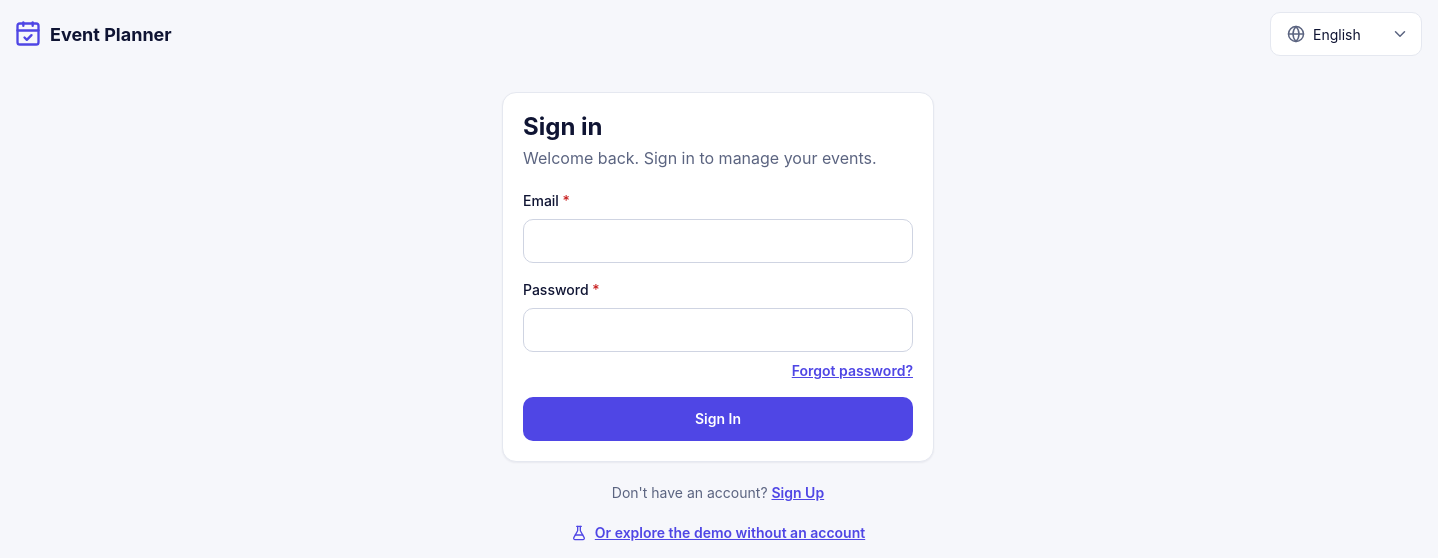
Test: forgot and reset password › asks for a link and confirms without saying whether the account exists
Click the link "Forgot password?" at (852, 370), box left=792, top=360, right=913, bottom=381
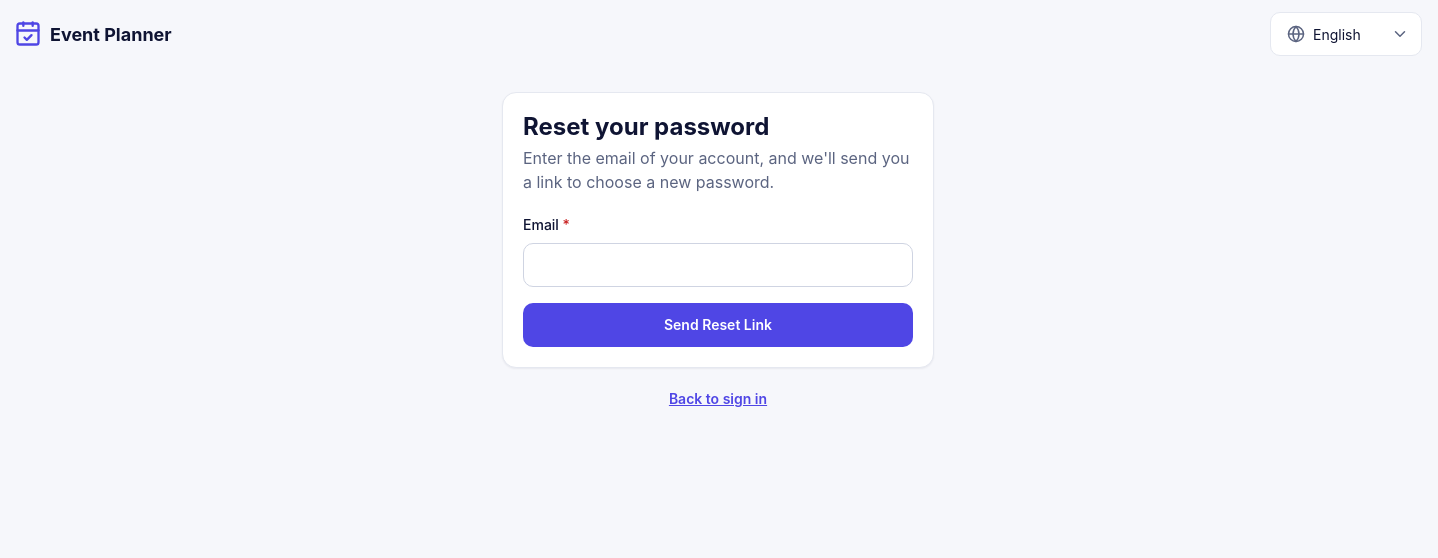
Expected: the heading "Reset your password" is shown, left=523, top=112, right=769, bottom=141
Type "not-an-email" into the field labelled "Email *" at (718, 265), box left=523, top=243, right=913, bottom=287
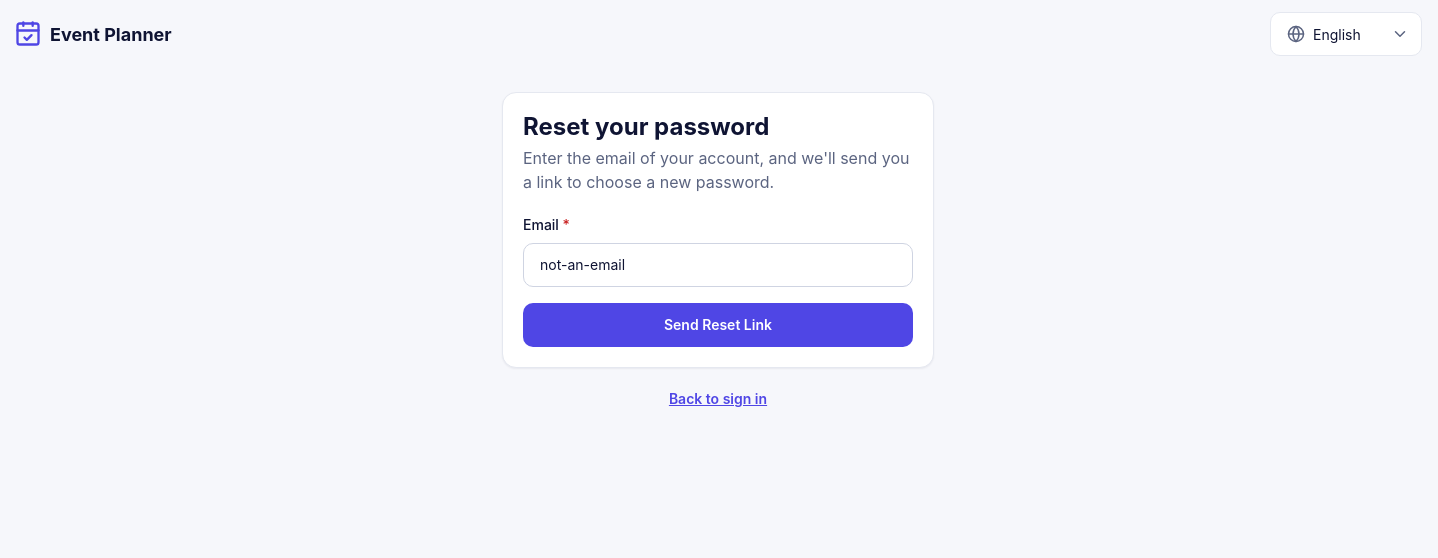
Click the button "Send Reset Link" at (718, 325), box left=523, top=303, right=913, bottom=347
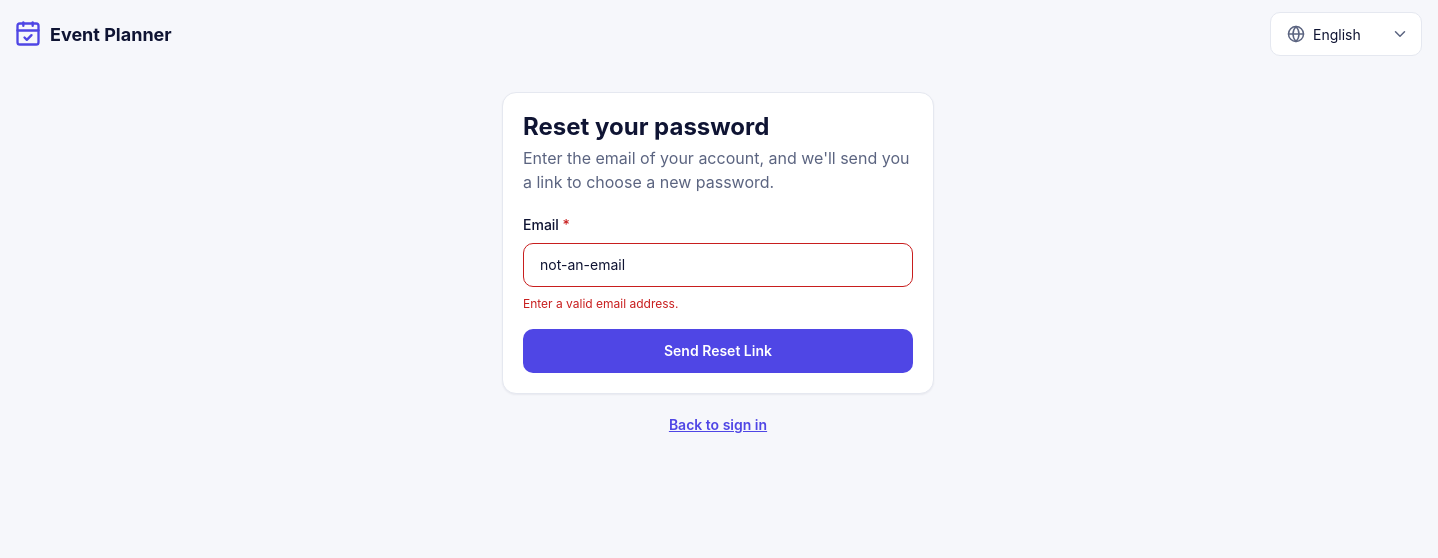
Expected: the text "Enter a valid email address." is shown, left=523, top=296, right=678, bottom=311
Replace the text in the field labelled "Email *" with " Dana@Example.com " at (718, 265), box left=523, top=243, right=913, bottom=287
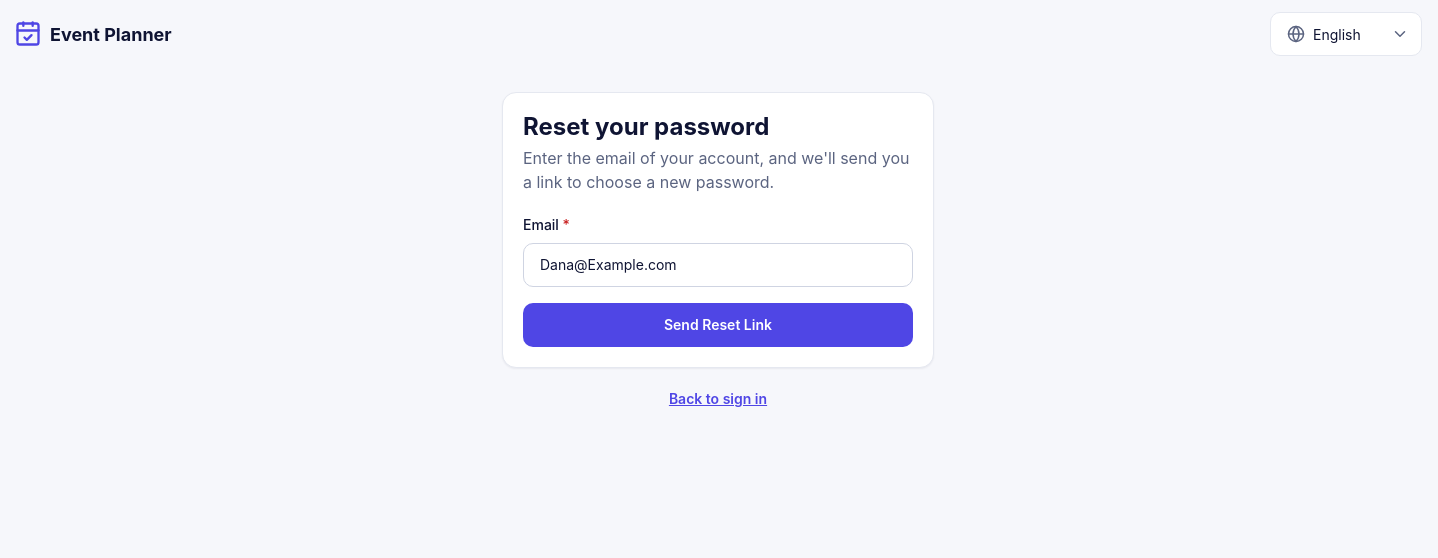
Click the button "Send Reset Link" at (718, 325), box left=523, top=303, right=913, bottom=347
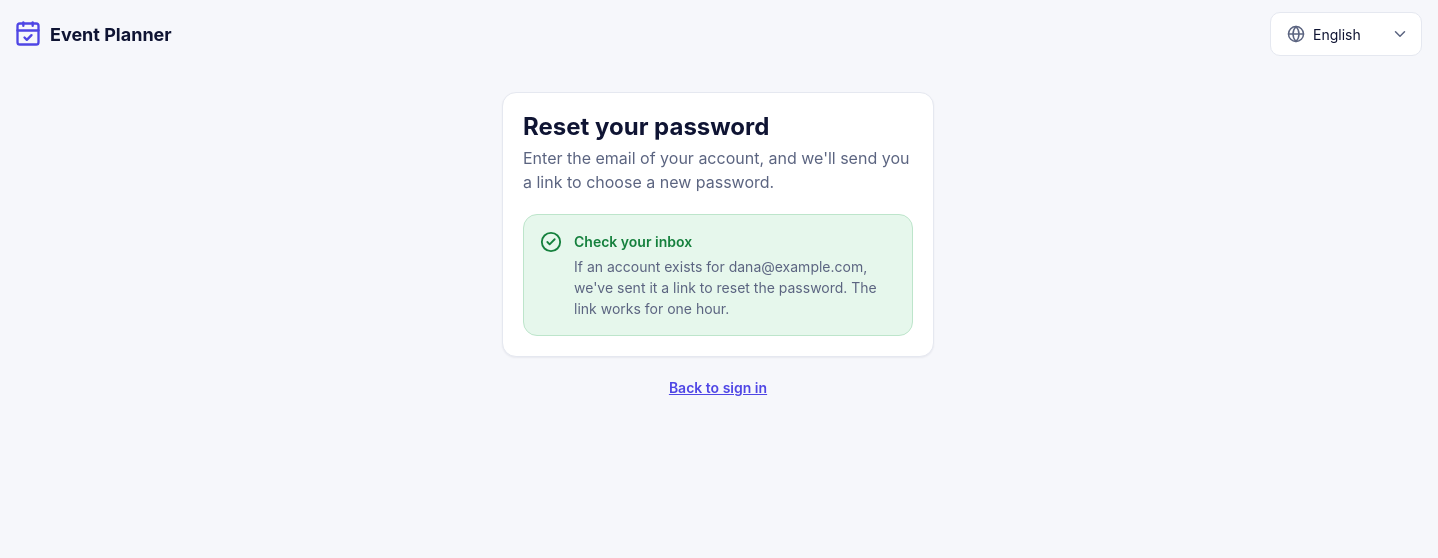
Expected: the text "Check your inbox" is shown, left=574, top=233, right=692, bottom=250
